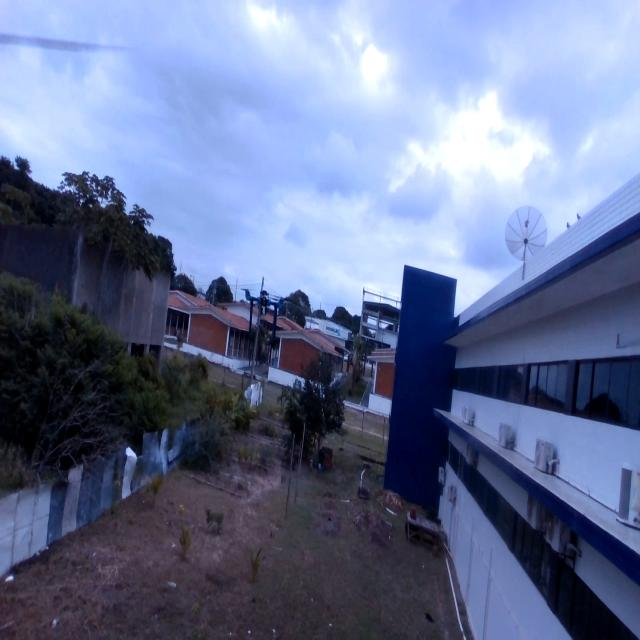-uav-: (226, 262, 302, 342)
